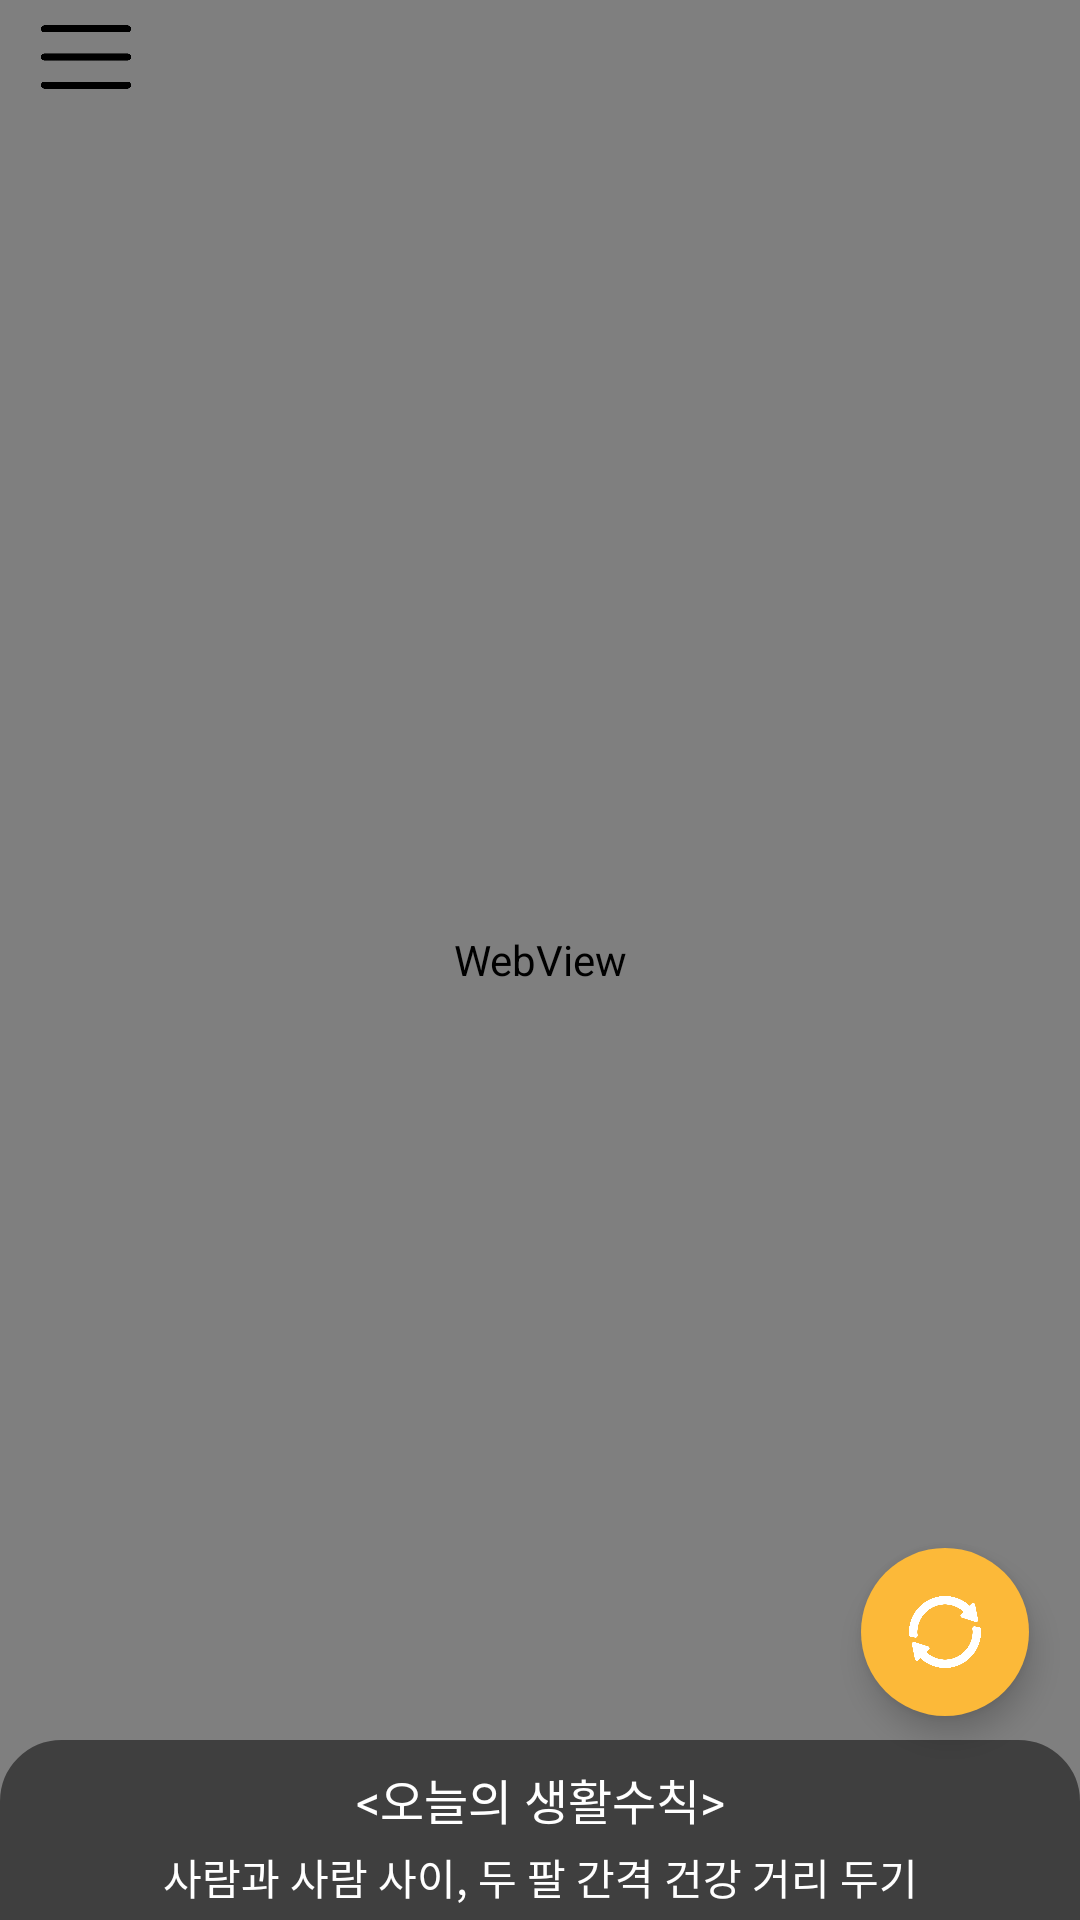

Screen size 1080×1920. Icon name, then its center in pixels as (x,y):
bars: (86,57)
refresh: (945,1632)
